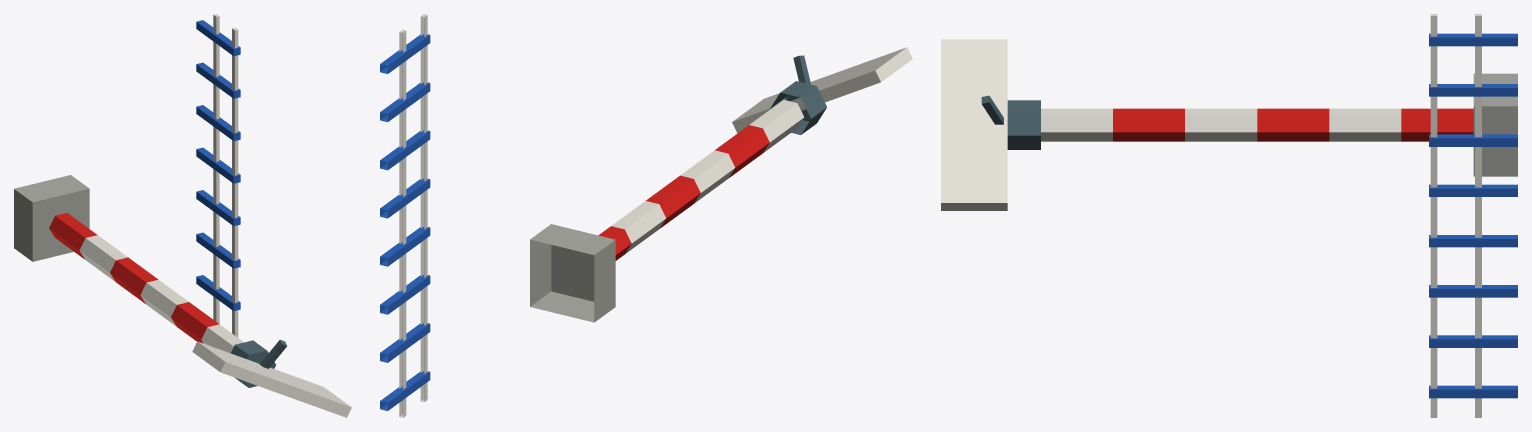
The model's file is frame_11.glb.
3 views of the same model, side by side, from view 1: azimuth 30°, elevation 25°; view 2: azimuth 150°, elevation 25°; view 3: azimuth 270°, elevation 25° (orthographic). The views are drawn at different scales.
Visible parts, largest first — view 1: t6_5_g51.011; view 2: t6_5_g51.011; view 3: t6_5_g51.011.
Part boxes in pixels (bbox=[...]): t6_5_g51.011: bbox=[14, 14, 351, 417]; t6_5_g51.011: bbox=[380, 14, 912, 417]; t6_5_g51.011: bbox=[941, 14, 1517, 417].
Size of the model in its own units: 11.16 by 16 by 20.8.
